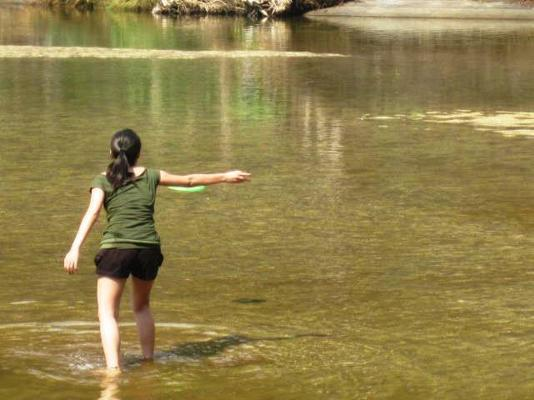person: (63, 128, 253, 372)
